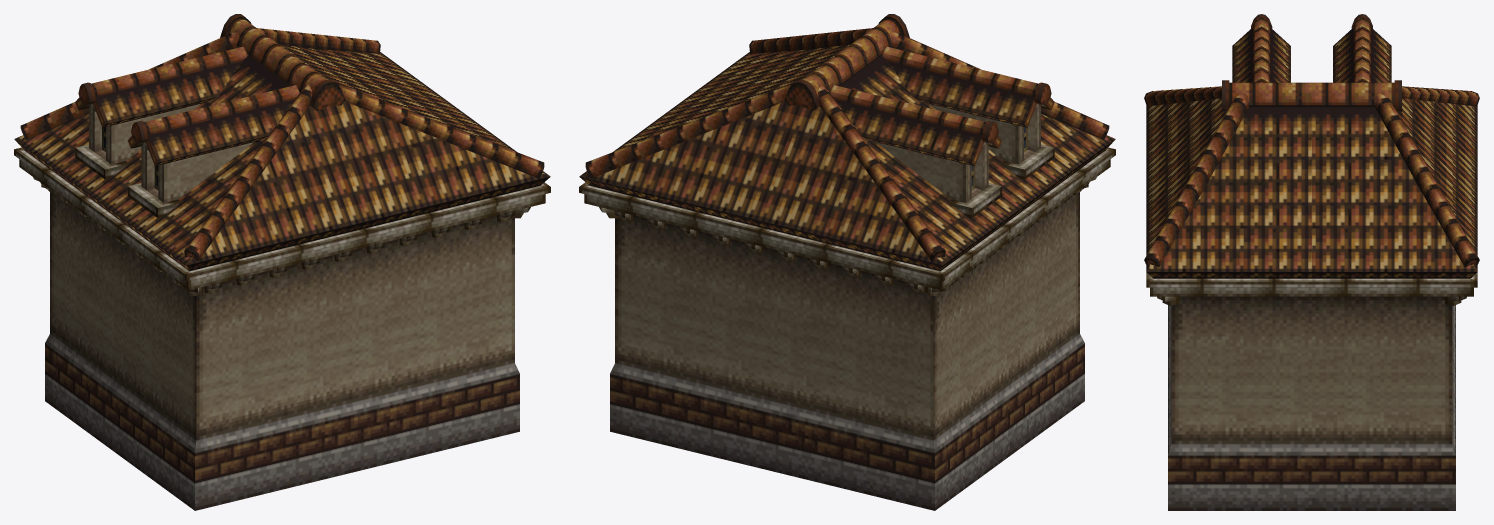
File: EnvBdgMD_Sea_A_Outdoor_House_D.FBX
3 views of the same model, side by side, from view 1: azimuth 30°, elevation 25°; view 2: azimuth 150°, elevation 25°; view 3: azimuth 270°, elevation 25° (orthographic). The views are drawn at different scales.
Parts seen in each view (by area): view 1: EnvBdgMD_Sea_A_Outdoor_House_D; view 2: EnvBdgMD_Sea_A_Outdoor_House_D; view 3: EnvBdgMD_Sea_A_Outdoor_House_D.
Boxes of the visible parts, box(x1,y1,x2,y2) form: EnvBdgMD_Sea_A_Outdoor_House_D: box(14, 14, 550, 510); EnvBdgMD_Sea_A_Outdoor_House_D: box(579, 14, 1115, 510); EnvBdgMD_Sea_A_Outdoor_House_D: box(1144, 14, 1479, 510).
Size of the model in its own units: 560 by 541 by 466.
Materials: 2 (2 with a texture image).
